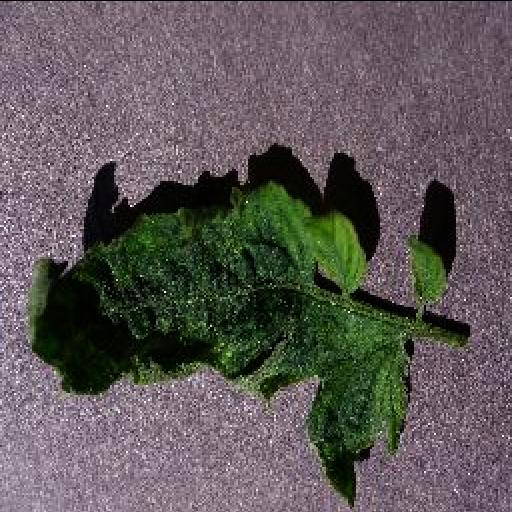Mosaic Virus: (26, 174, 412, 510)
